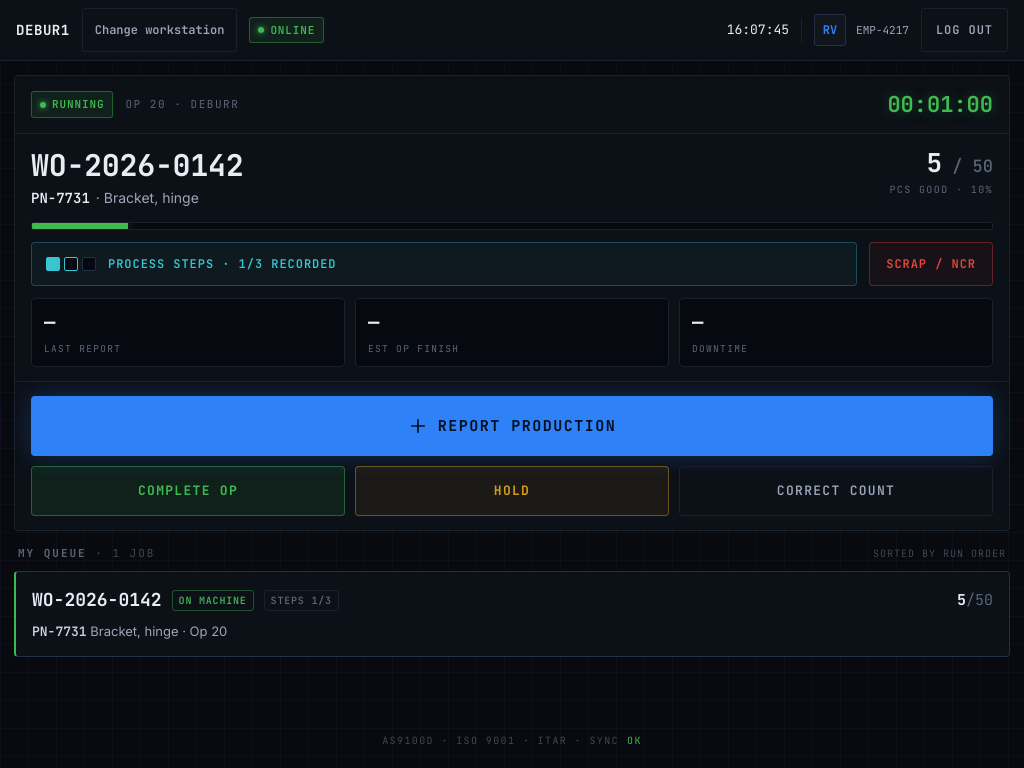
Test: OperatorKiosk process steps › previews tolerance live as the operator types (client-side only)
The image size is (1024, 768).
Click the button with test id "kiosk-active-steps" at (173, 264), box [31,242,857,286]
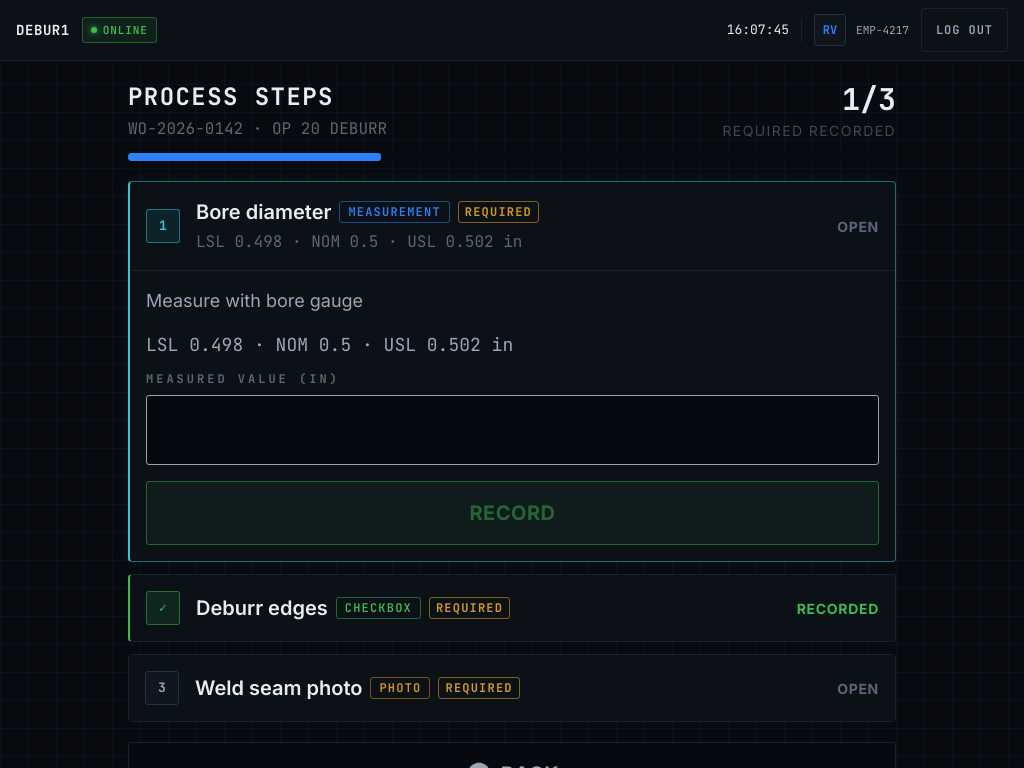
Expected: the text "1/3" is shown, [842,79,896,119]
Type "0.5" into the field labelled "Measured value (in)" at (512, 430), box [146,395,879,465]
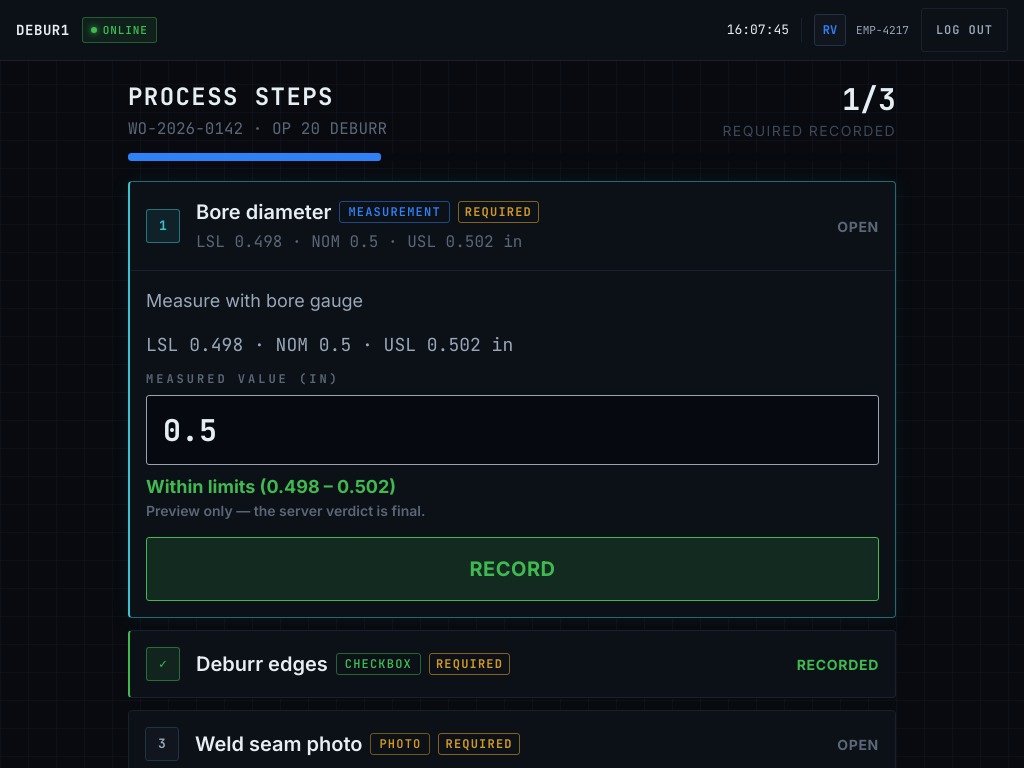
Expected: the element with test id "kiosk-step-101-tolerance-preview" shows "Within limits (0.498 – 0.502)", [146,476,396,497]
Replace the text in the field labelled "Measured value (in)" with "0.6" at (512, 430), box [146,395,879,465]
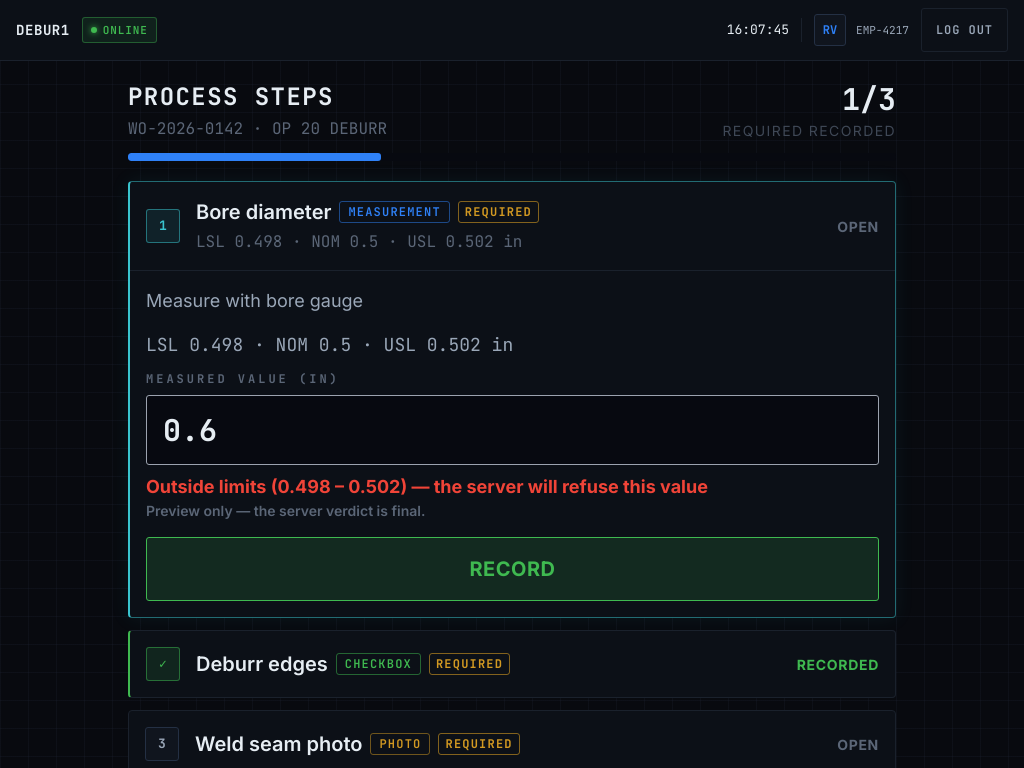
Expected: the element with test id "kiosk-step-101-tolerance-preview" shows "Outside limits (0.498 – 0.502) — the server will refuse this value", [146,476,708,497]
